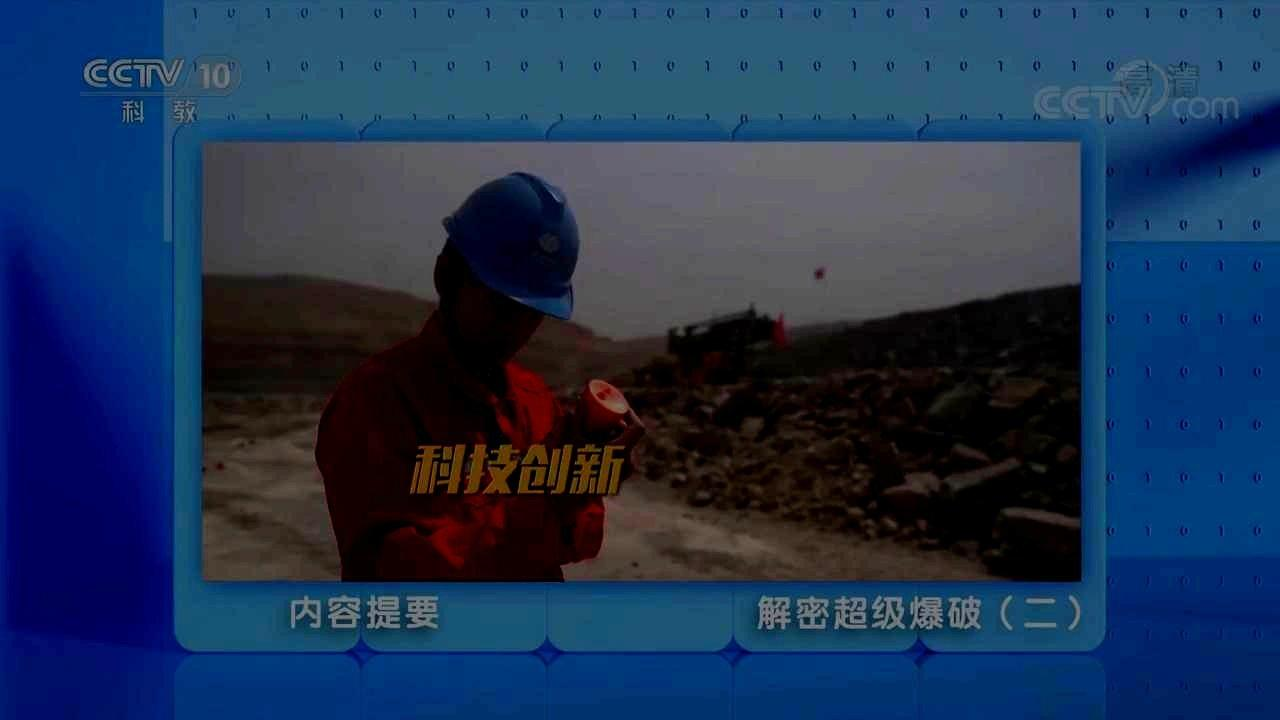helmet: (432, 170, 581, 361)
